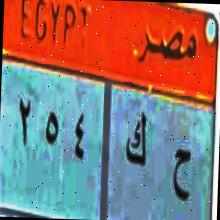2: (12, 92, 36, 156)
4: (69, 107, 89, 175)
5: (44, 103, 63, 157)
7aa: (168, 133, 194, 206)
kaaf: (123, 107, 150, 179)
